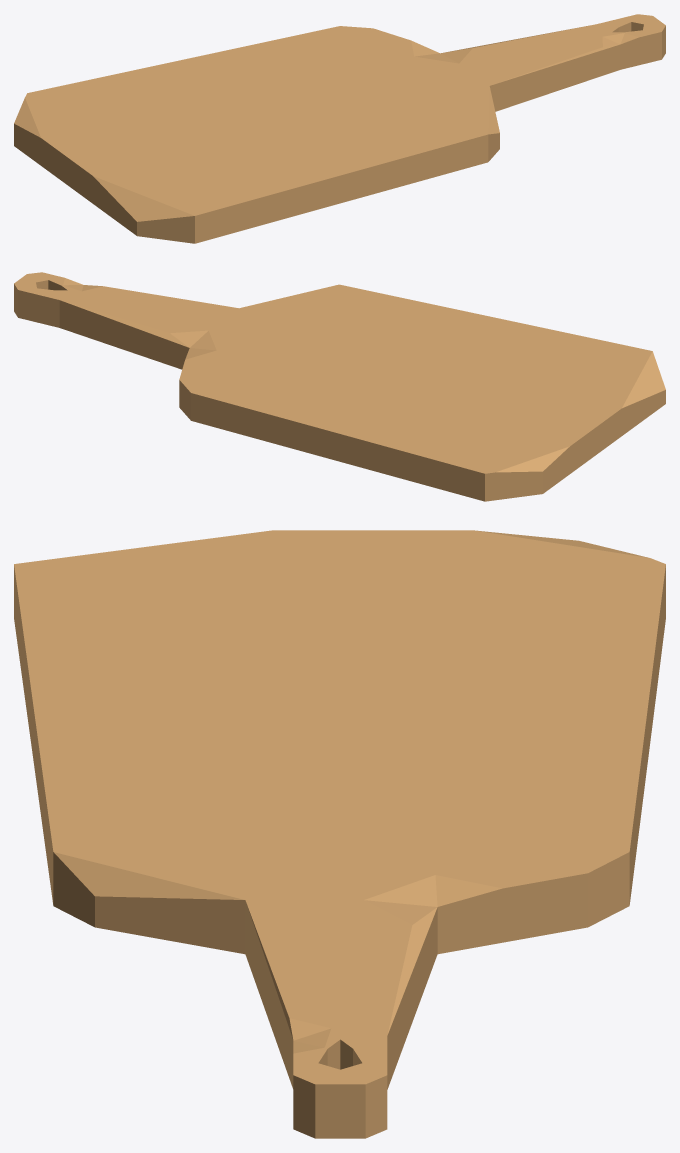
File: SFM_BS_Cutting_Board.fbx
3 views of the same model, one above another, from view 1: azimuth 30°, elevation 25°; view 2: azimuth 150°, elevation 25°; view 3: azimuth 270°, elevation 25° (orthographic). The views are drawn at different scales.
Parts seen in each view (by area): view 1: SFM_BS_Cutting_Board; view 2: SFM_BS_Cutting_Board; view 3: SFM_BS_Cutting_Board.
Part boxes in pixels (x1,y1,x2,y2): SFM_BS_Cutting_Board: (14, 14, 665, 243); SFM_BS_Cutting_Board: (14, 272, 665, 501); SFM_BS_Cutting_Board: (14, 530, 665, 1138).
Bounding box in the file's own units: 65.6 × 2.99 × 32.63.
